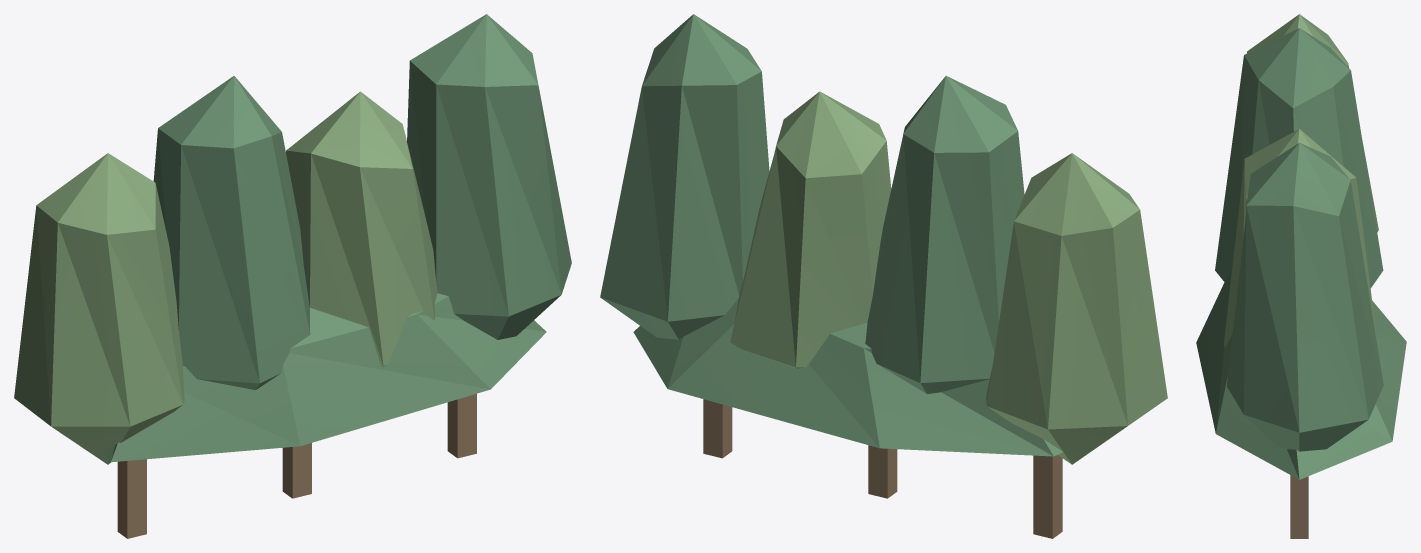
The picture shows the model from 3 angles, left to right: view 1: azimuth 30°, elevation 25°; view 2: azimuth 150°, elevation 25°; view 3: azimuth 270°, elevation 25°; orthographic projection. The views are drawn at different scales.
Visible parts, largest first — view 1: hedge_dense; view 2: hedge_dense; view 3: hedge_dense.
Boxes of the visible parts, x1,y1,x2,y2 form: hedge_dense: (14, 14, 571, 538); hedge_dense: (600, 14, 1167, 538); hedge_dense: (1196, 14, 1406, 538).
Bounding box in the file's own units: 2.23 × 1.7 × 0.8069.
